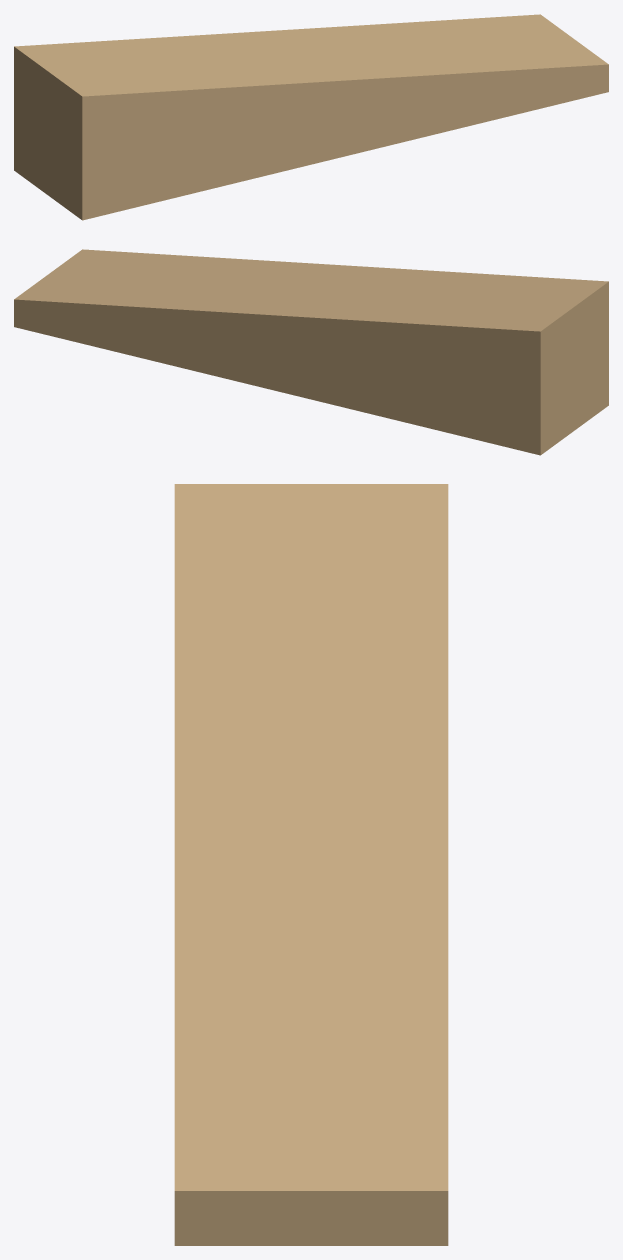
Rendered from prop-panel-gauge-wedge-pg2.fbx.
3 renders of one model, top to bottom at view 1: azimuth 30°, elevation 25°; view 2: azimuth 150°, elevation 25°; view 3: azimuth 270°, elevation 25°, orthographic. The views are drawn at different scales.
Visible parts, largest first — view 1: prop-panel-gauge-wedge-pg2; view 2: prop-panel-gauge-wedge-pg2; view 3: prop-panel-gauge-wedge-pg2.
Boxes of the visible parts, box(x1,y1,x2,y2) form: prop-panel-gauge-wedge-pg2: box(14, 14, 608, 220); prop-panel-gauge-wedge-pg2: box(14, 249, 608, 455); prop-panel-gauge-wedge-pg2: box(174, 484, 448, 1245).
Size of the model in its own units: 8 by 1.8 by 1.8.
